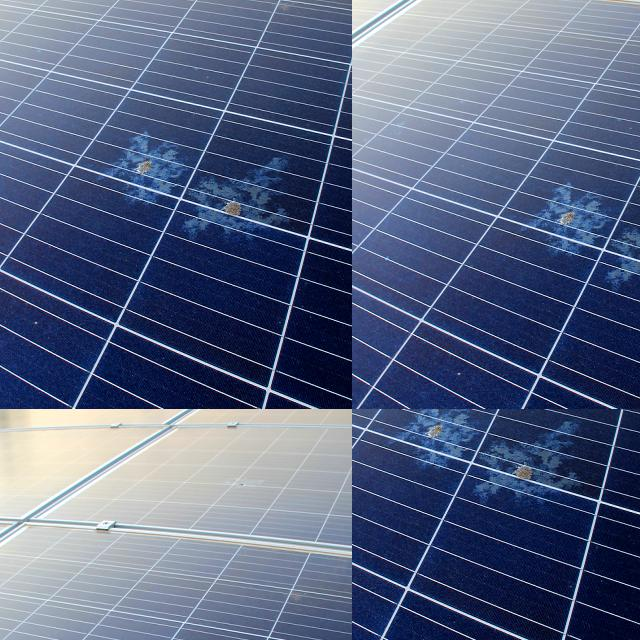bird: (270, 220, 352, 338), (481, 426, 584, 503), (142, 324, 206, 409), (397, 409, 468, 472)
dust: (444, 178, 542, 344), (564, 187, 640, 366), (515, 96, 634, 183), (408, 101, 508, 180), (352, 175, 407, 298), (64, 579, 204, 622), (473, 48, 587, 84), (0, 581, 44, 640)
